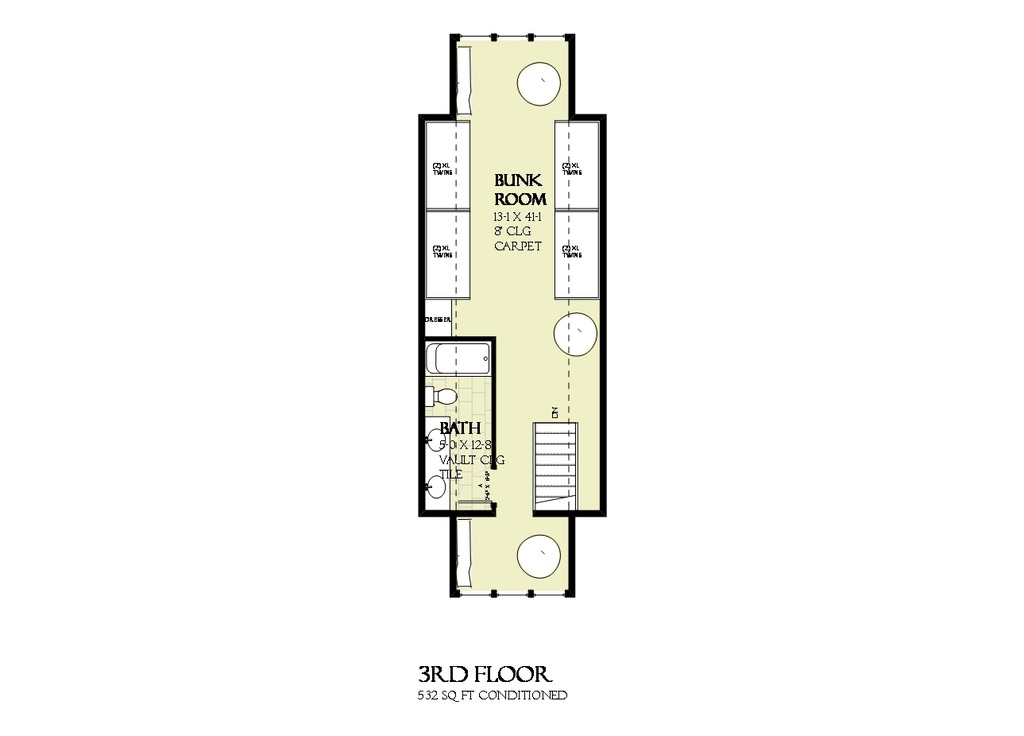large_sink: (419, 381, 458, 413)
small_sink: (418, 416, 454, 511)
stairs: (529, 419, 581, 512)
tub: (424, 336, 493, 377)
windows: (459, 30, 568, 44), (456, 587, 567, 598)
